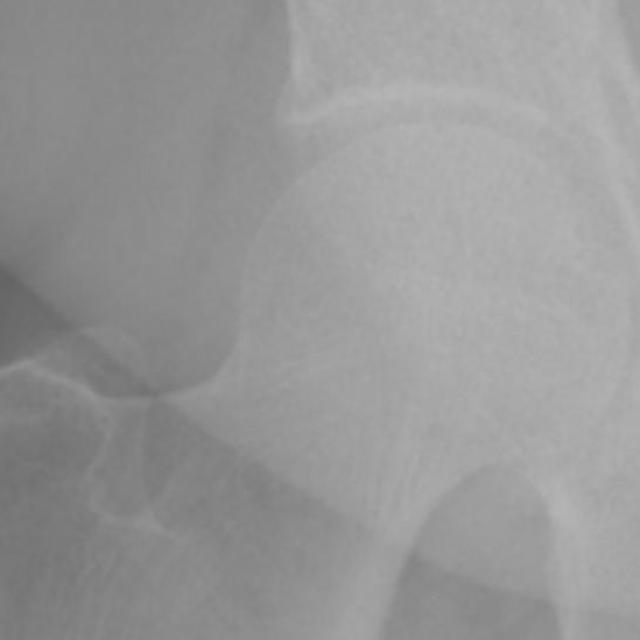Fitted_femural_head: (389, 120, 432, 389)
